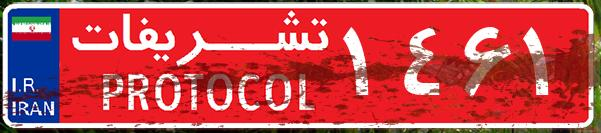1: (340, 20, 400, 115), (520, 20, 580, 115)
4: (400, 20, 460, 115)
6: (460, 20, 520, 115)
تشریفات: (60, 8, 340, 125)
